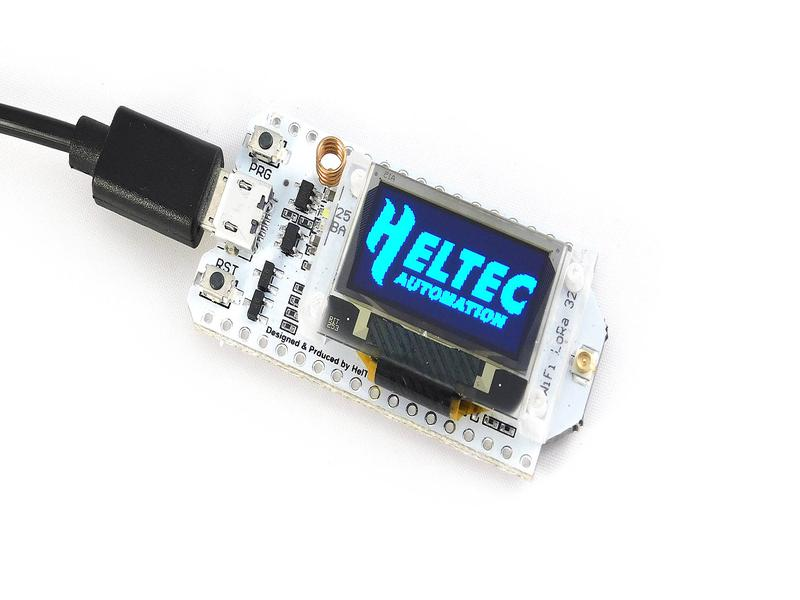Heltec_ESP32_Lora: (185, 111, 614, 485)
